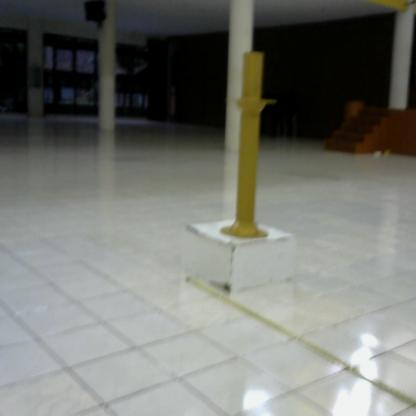pole: (218, 43, 281, 250)
